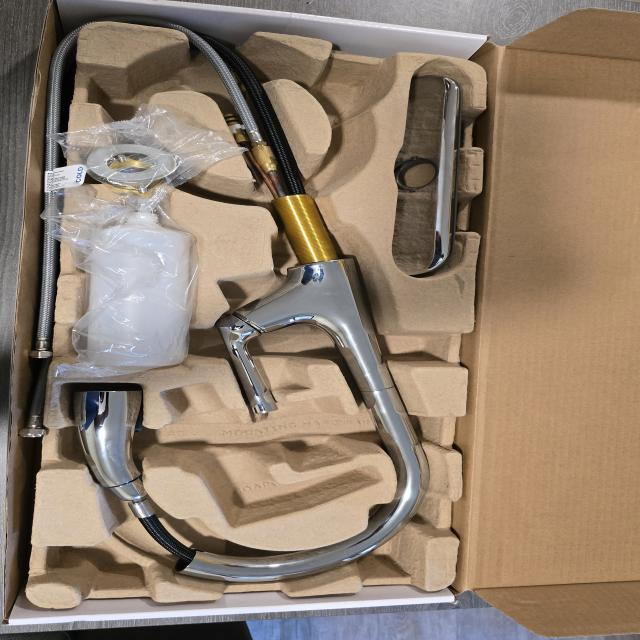1: (74, 24, 435, 585)
2m: (160, 381, 386, 525)
3: (80, 197, 194, 368)
4: (391, 76, 458, 275)
5m: (310, 66, 383, 121)
6: (40, 106, 249, 200)
7m: (84, 52, 180, 122)
